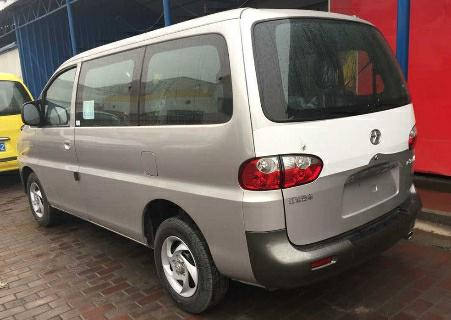江淮-瑞风: (15, 7, 430, 320)
